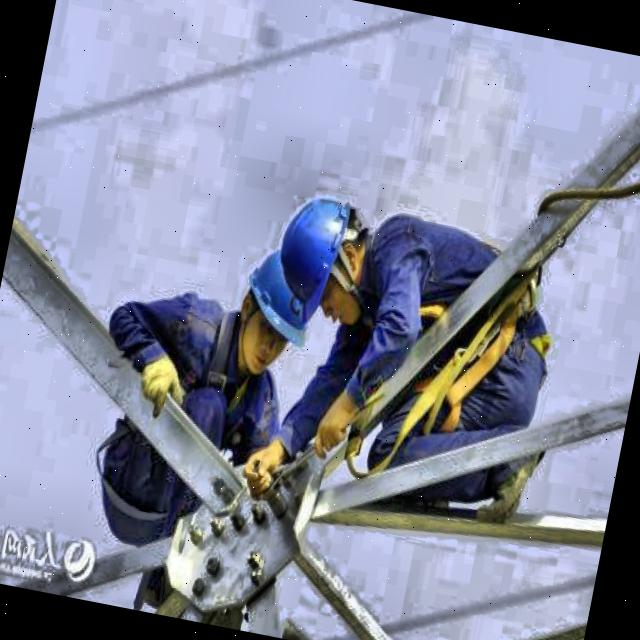helmet: (270, 186, 386, 324), (231, 241, 324, 387)
